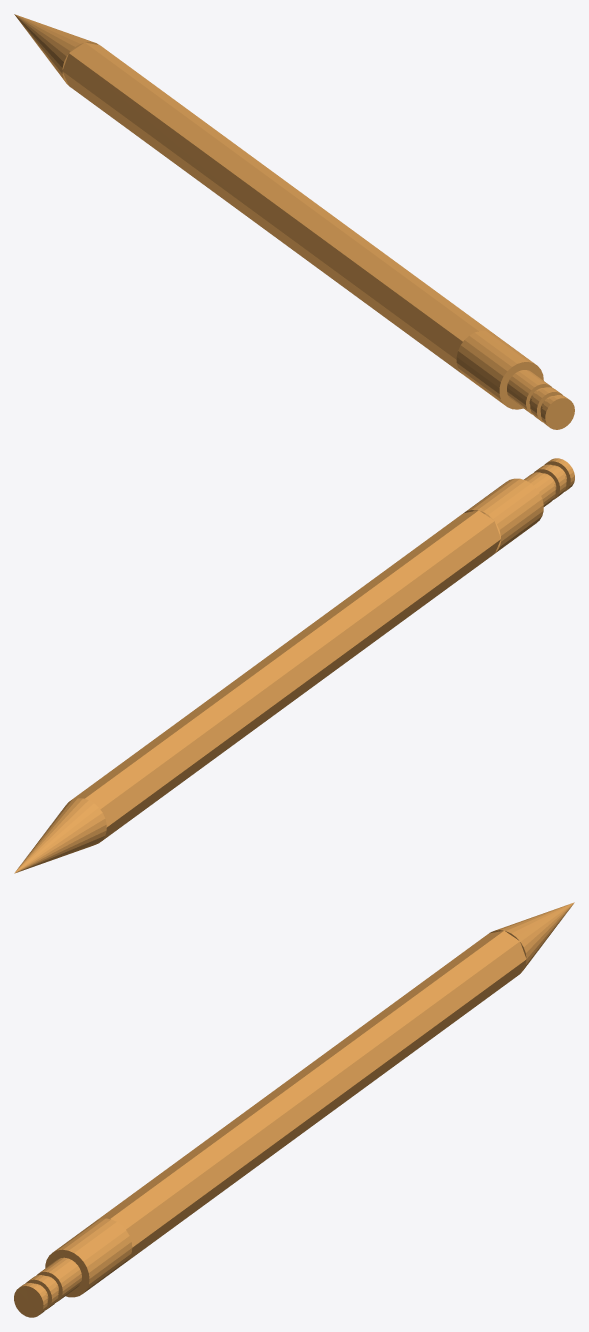
The model's file is pen1_6.dae.
3 renders of one model, top to bottom at view 1: azimuth 30°, elevation 25°; view 2: azimuth 150°, elevation 25°; view 3: azimuth 330°, elevation 25°, orthographic.
Visible parts, largest first — view 1: M000300_019; view 2: M000300_019; view 3: M000300_019.
Part boxes in pixels (x1,y1,x2,y2): M000300_019: (14,14,574,429); M000300_019: (14,458,574,873); M000300_019: (14,902,574,1317).
Bounding box in the file's own units: 0.0117 × 0.2481 × 0.0117.
